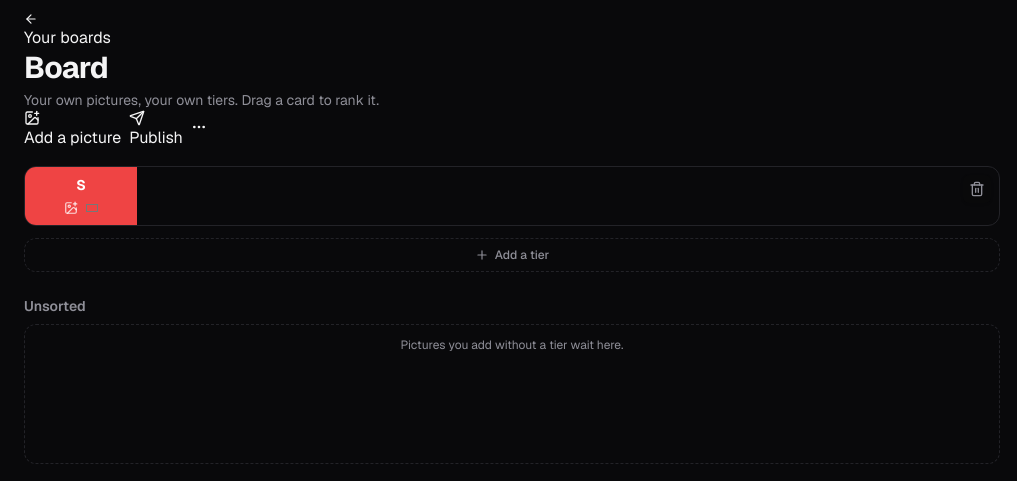
it: clearing a custom board › is not offered when the board already has nothing on it
Click the button named "More board actions". click: (199, 127)
box: [191,119,207,135]
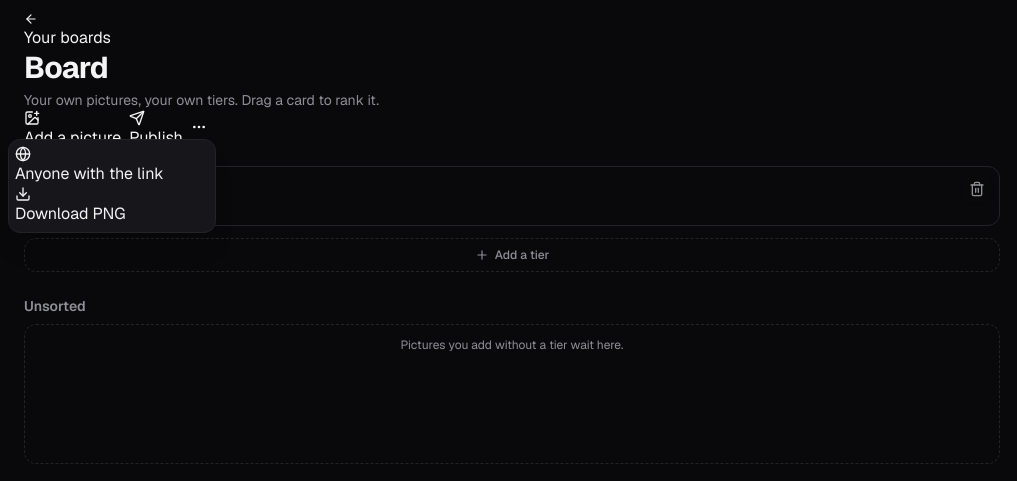
Expected: the menu is shown, [8,139,216,233]
